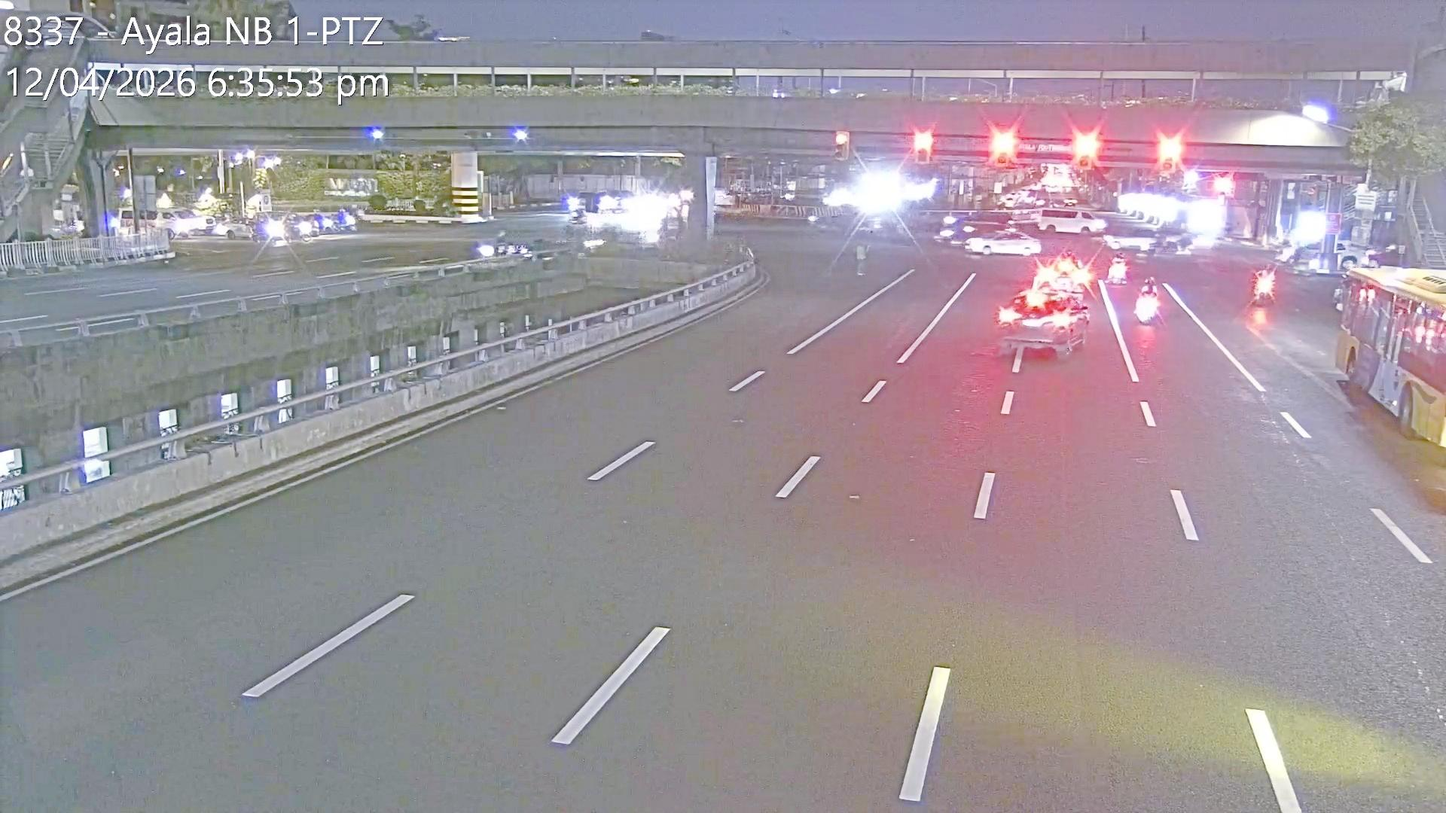Car: (999, 289, 1086, 352), (1025, 206, 1109, 236), (967, 229, 1043, 257), (142, 209, 218, 237), (203, 214, 259, 239)
Motor: (1131, 282, 1160, 324), (1249, 269, 1277, 312), (1108, 250, 1130, 284)
